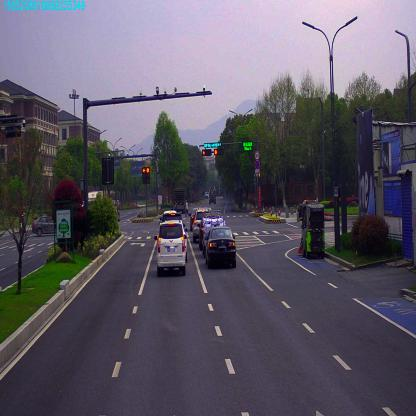traffic-light: (205, 142, 221, 147), (203, 148, 211, 156), (214, 149, 221, 154)
